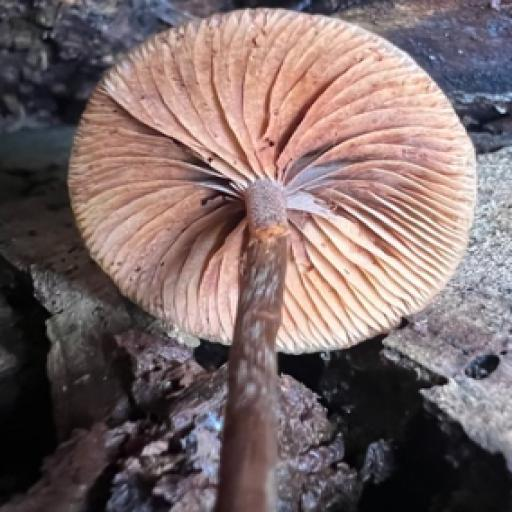mushroom: (68, 6, 479, 512)
